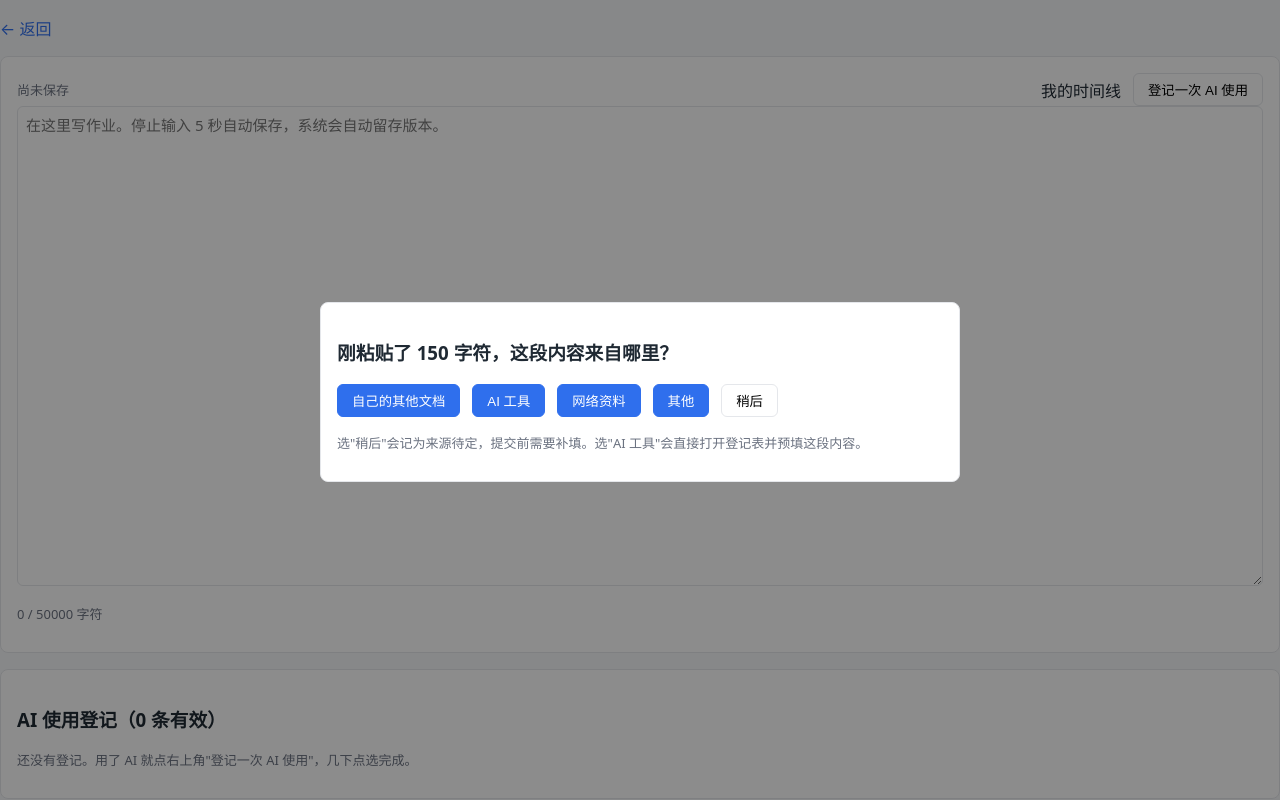
Test: 粘贴检测 › AC-WRK-03-1 粘贴超过 100 字符弹出来源选择并记录事件
Click the button "网络资料" at (599, 400), box [557,384,641,417]
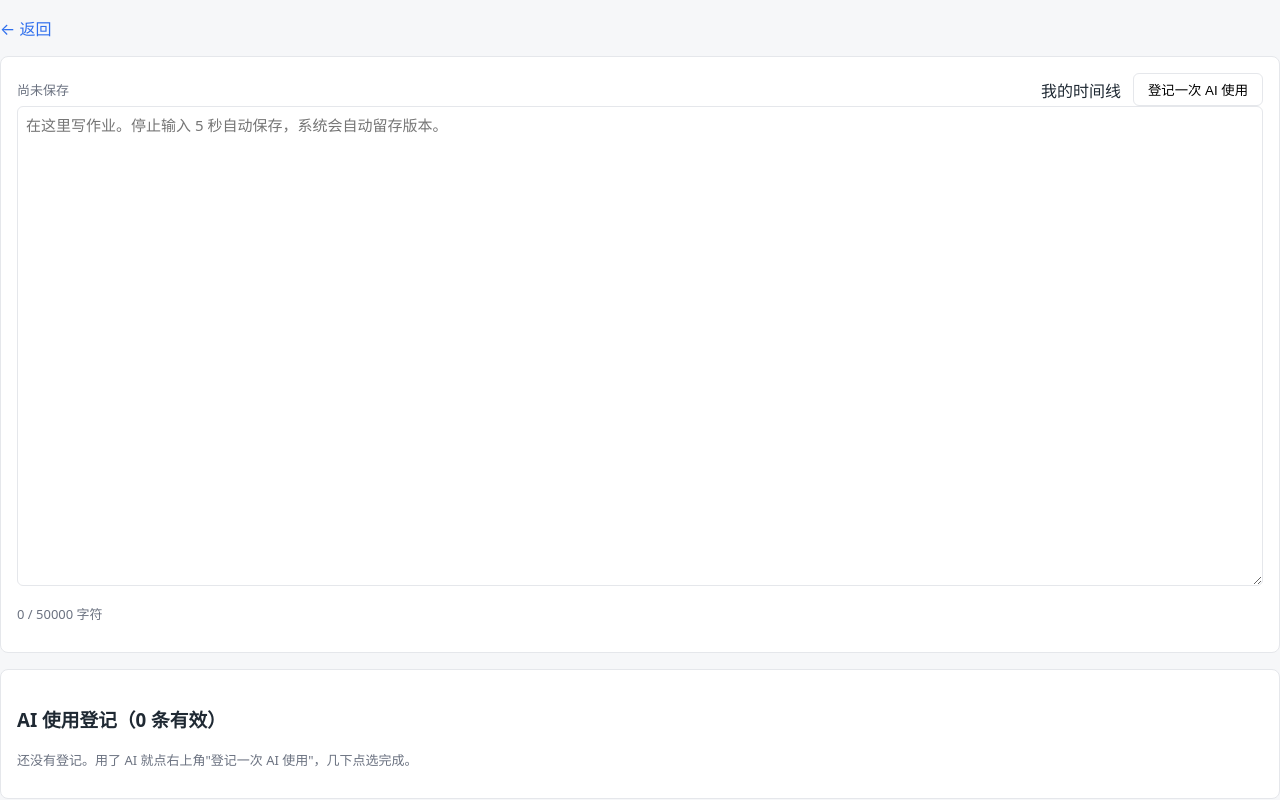
Expected: the text "刚粘贴了" is gone
